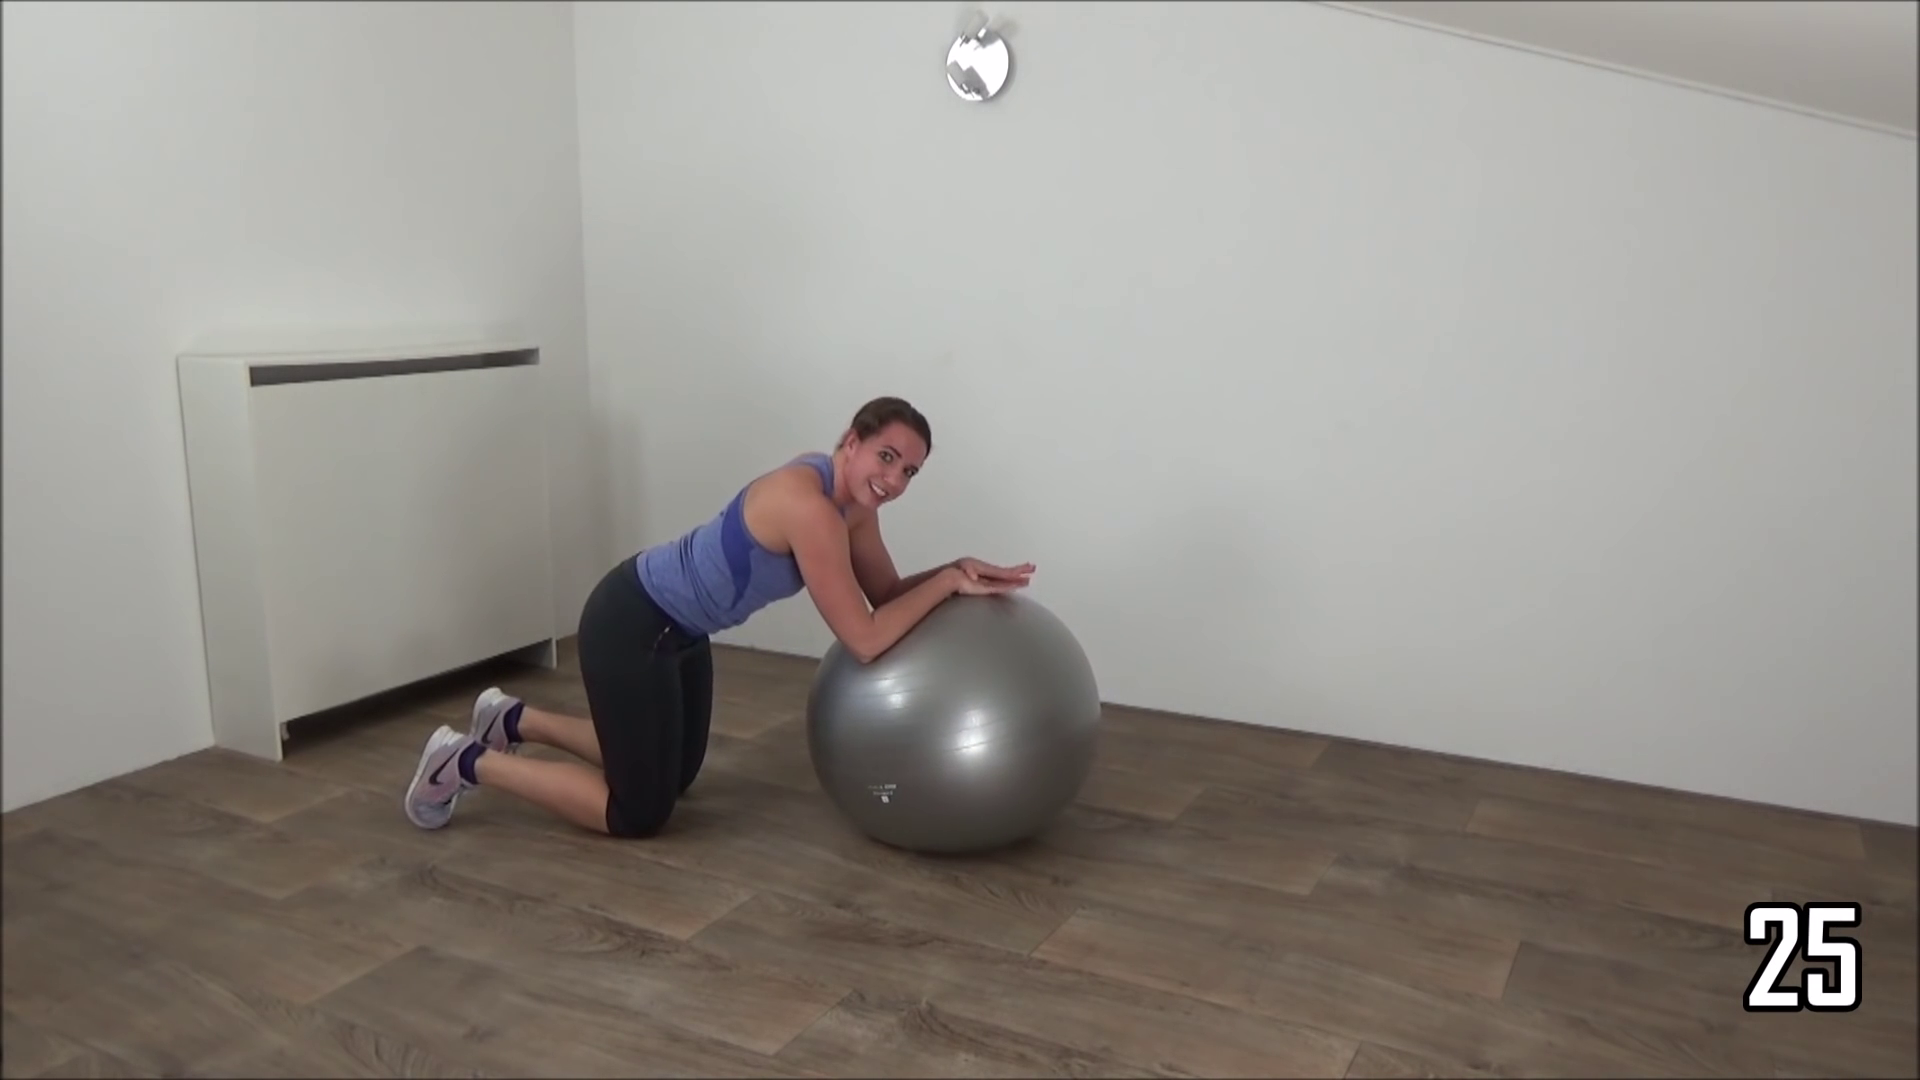yogaball: (803, 574, 1114, 897)
